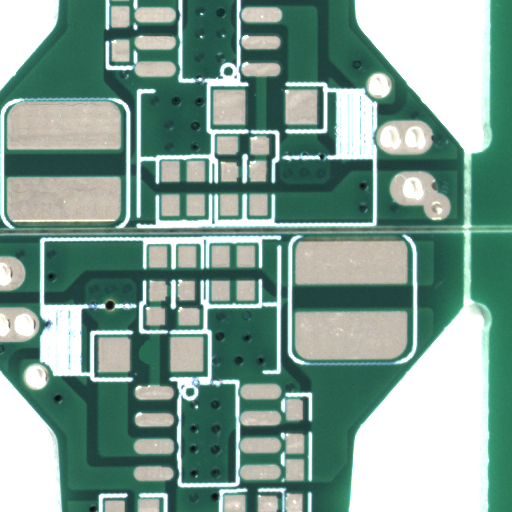Spur: (144, 352, 155, 377)
